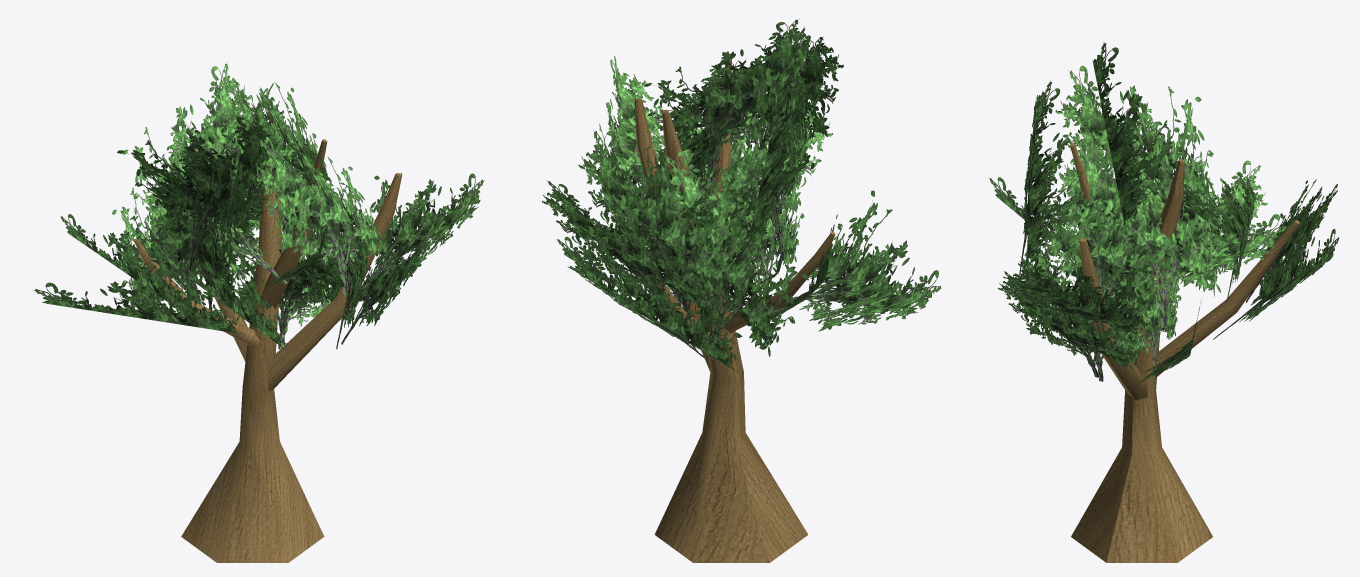
File: oak.glb
3 views of the same model, side by side, from view 1: azimuth 30°, elevation 25°; view 2: azimuth 150°, elevation 25°; view 3: azimuth 270°, elevation 25° (orthographic). The views are drawn at different scales.
Parts seen in each view (by area): view 1: stktex_autumnLeaf_a.png__, stktex_generic_WoodB.png__; view 2: stktex_autumnLeaf_a.png__, stktex_generic_WoodB.png__; view 3: stktex_autumnLeaf_a.png__, stktex_generic_WoodB.png__.
Part boxes in pixels (bbox=[...]): stktex_autumnLeaf_a.png__: bbox=[34, 62, 484, 350]; stktex_generic_WoodB.png__: bbox=[133, 115, 402, 562]; stktex_autumnLeaf_a.png__: bbox=[542, 19, 941, 371]; stktex_generic_WoodB.png__: bbox=[625, 54, 835, 562]; stktex_autumnLeaf_a.png__: bbox=[988, 42, 1339, 383]; stktex_generic_WoodB.png__: bbox=[1070, 143, 1299, 562].
Bounding box in the file's own units: 12.05 × 13.97 × 9.89.
2 materials, 2 textured.
